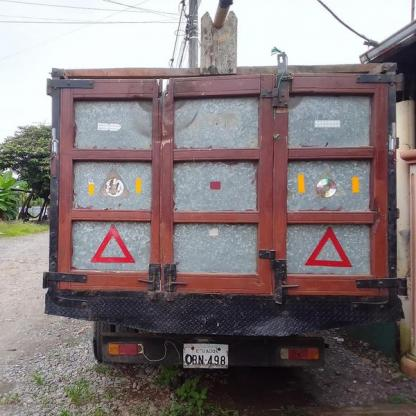Placa: (182, 340, 233, 374)
